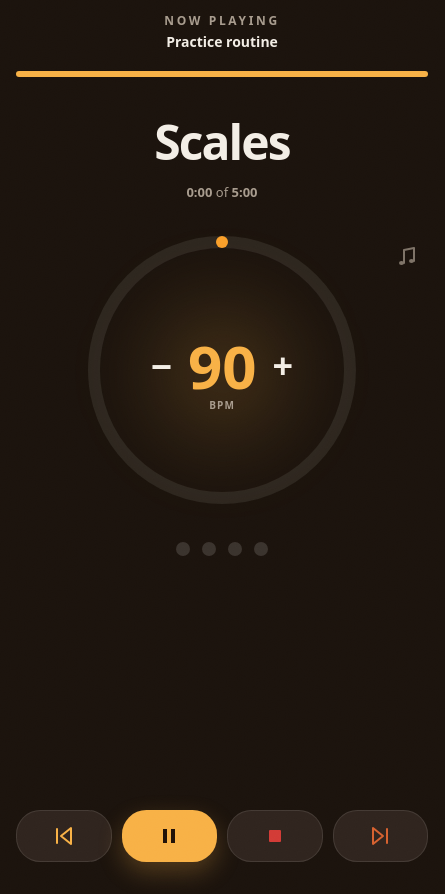
SessionPlayer › stops pending and repeating Tempo work on pointer cancellation
The image size is (445, 894).
Press the mouse on the button named "Increase tempo" at coordinates (283, 366), box 260,336 -> 305,396
Wait 2000 ms
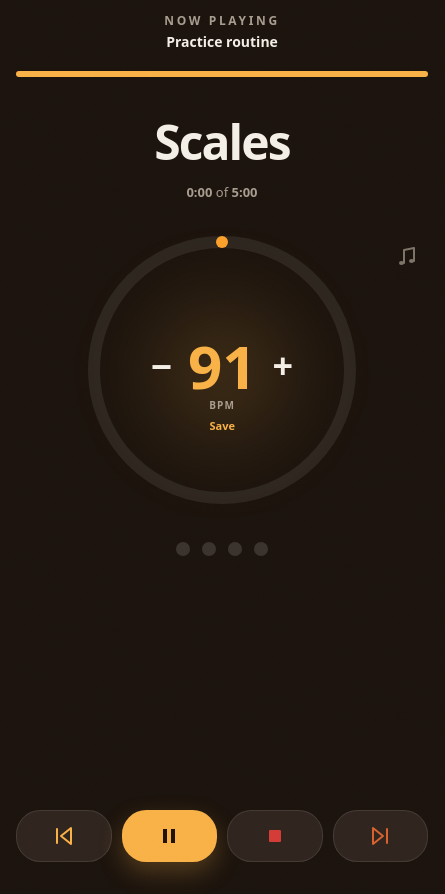
Expected: the text "91" is shown, 188,325 -> 256,407
